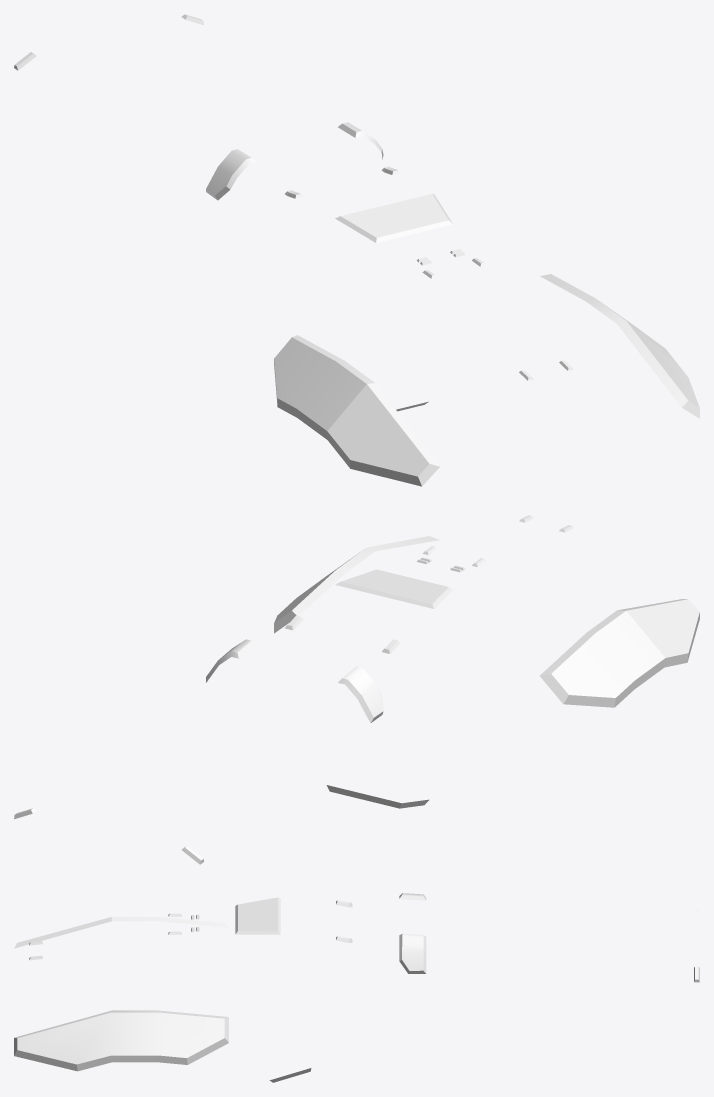
File: kpr_cf_assa_01_t3.glb
3 views of the same model, one above another, from view 1: azimuth 30°, elevation 25°; view 2: azimuth 150°, elevation 25°; view 3: azimuth 270°, elevation 25° (orthographic). The views are drawn at different scales.
Parts seen in each view (by area): view 1: kpr_tormentor_01_LOD0; view 2: kpr_tormentor_01_LOD0; view 3: kpr_tormentor_01_LOD0.
Part boxes in pixels (x1,y1,x2,y2): kpr_tormentor_01_LOD0: (14,14,699,486); kpr_tormentor_01_LOD0: (14,515,699,864); kpr_tormentor_01_LOD0: (14,893,699,1082).
Size of what is drawn, in the model's own units: 1.14 by 0.665 by 2.65.
1 material, 1 textured.
